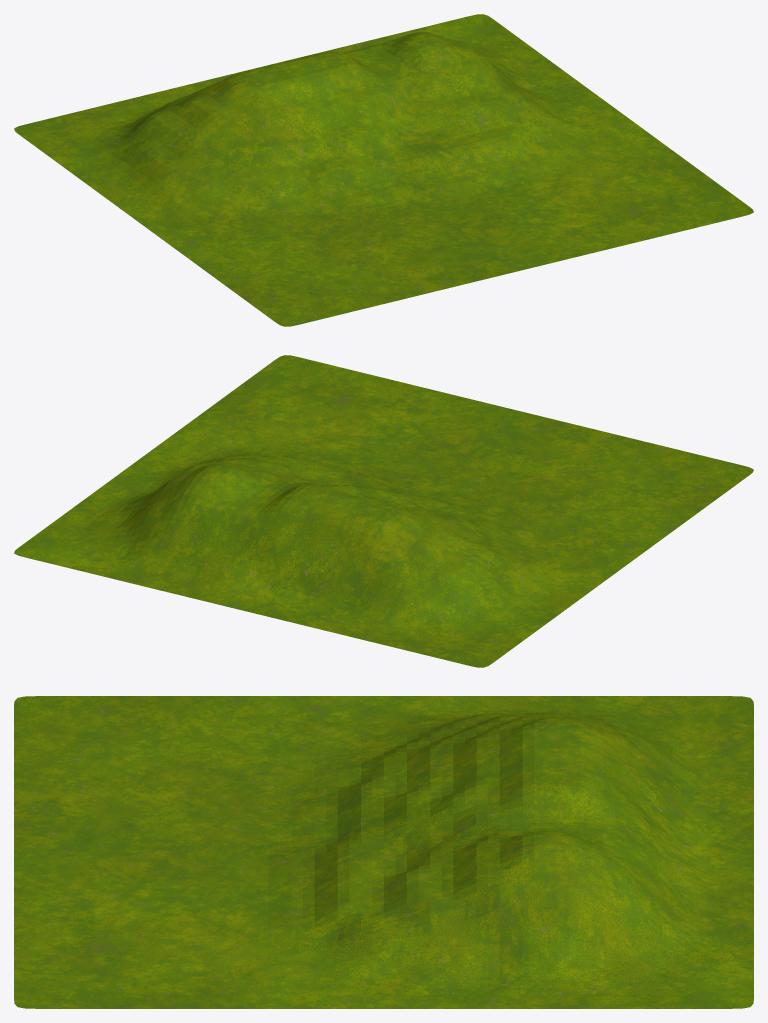
File: Solbourg_Nouveau_Sol_1.fbx
The picture shows the model from 3 angles, top to bottom: view 1: azimuth 30°, elevation 25°; view 2: azimuth 150°, elevation 25°; view 3: azimuth 270°, elevation 25°; orthographic projection. The views are drawn at different scales.
Parts seen in each view (by area): view 1: Plane; view 2: Plane; view 3: Plane.
Boxes of the visible parts, x1,y1,x2,y2 form: Plane: (14,14,753,326); Plane: (14,355,753,667); Plane: (14,696,753,1008).
Bounding box in the file's own units: 5000 × 608 × 5000.
1 material, 1 textured.
